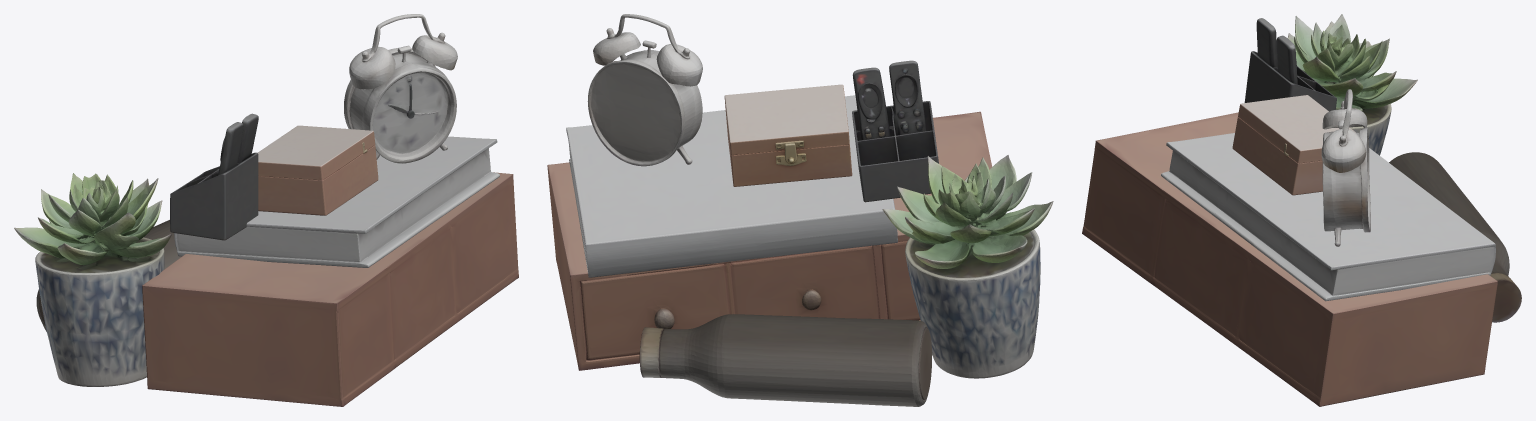
The model's file is sam3d.glb.
3 renders of one model, left to right at view 1: azimuth 30°, elevation 25°; view 2: azimuth 150°, elevation 25°; view 3: azimuth 270°, elevation 25°, orthographic. The views are drawn at different scales.
Parts seen in each view (by area): view 1: object_06, object_03, object_04, object_01, object_00, object_02, object_05; view 2: object_04, object_06, object_03, object_05, object_01, object_00, object_02; view 3: object_06, object_04, object_03, object_00, object_01, object_05, object_02.
Part boxes in pixels (left/top/right/bottom): object_06: left=142, top=172, right=518, bottom=406; object_03: left=14, top=173, right=171, bottom=386; object_04: left=174, top=136, right=499, bottom=267; object_01: left=344, top=14, right=457, bottom=163; object_00: left=257, top=125, right=378, bottom=215; object_02: left=170, top=113, right=258, bottom=240; object_05: left=36, top=220, right=181, bottom=331; object_04: left=566, top=95, right=897, bottom=277; object_06: left=547, top=111, right=992, bottom=370; object_03: left=882, top=155, right=1053, bottom=378; object_05: left=639, top=314, right=932, bottom=406; object_01: left=587, top=14, right=702, bottom=166; object_00: left=724, top=84, right=852, bottom=186; object_02: left=852, top=60, right=938, bottom=202; object_06: left=1082, top=112, right=1497, bottom=406; object_04: left=1161, top=133, right=1495, bottom=301; object_03: left=1287, top=14, right=1417, bottom=155; object_00: left=1232, top=95, right=1355, bottom=195; object_01: left=1321, top=89, right=1370, bottom=246; object_05: left=1389, top=152, right=1521, bottom=322; object_02: left=1244, top=18, right=1336, bottom=111.
Bounding box in the file's own units: 0.7968 × 0.4649 × 0.659.
